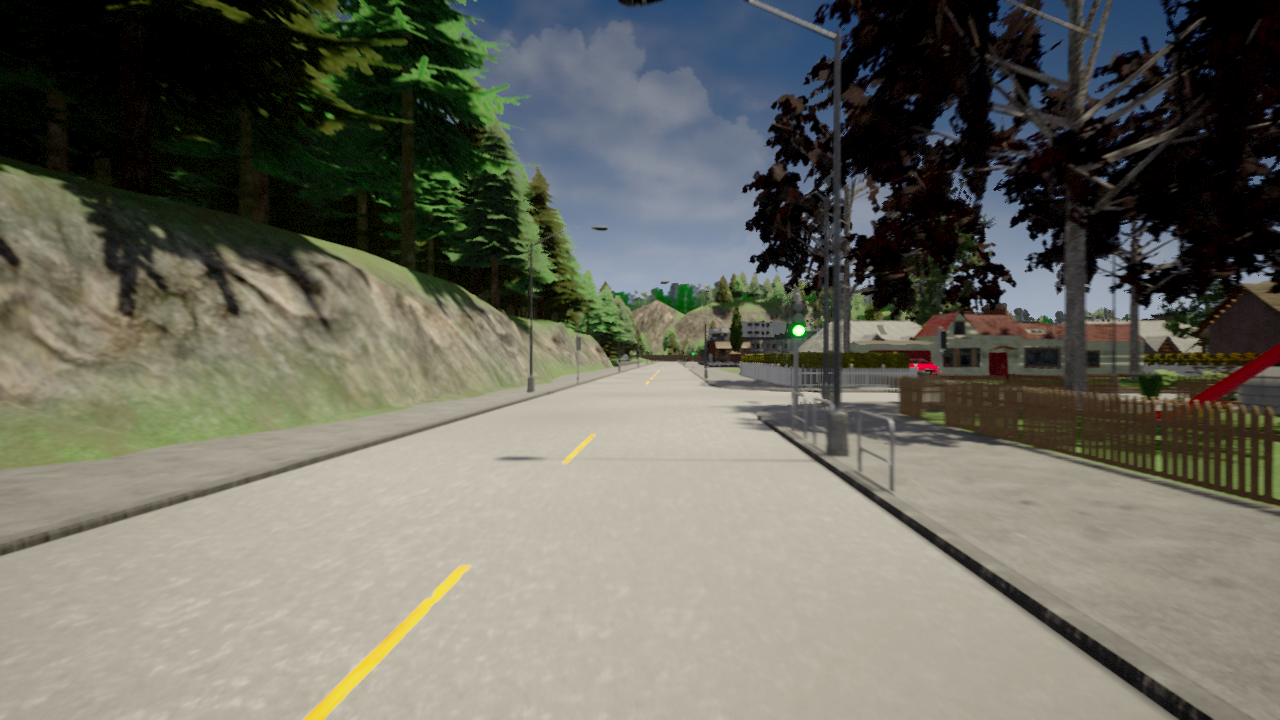green: (790, 299, 808, 338)
